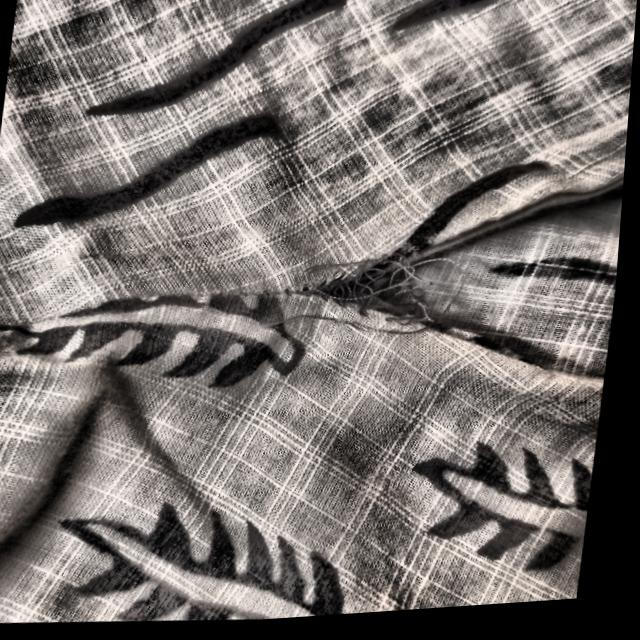Stitch: (244, 242, 482, 356)
